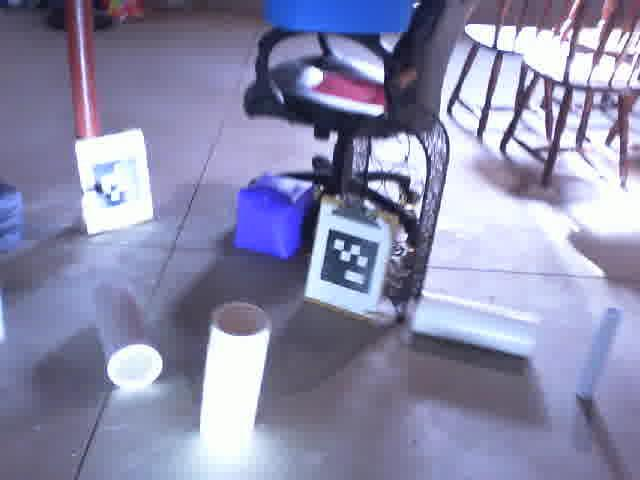coral: (198, 295, 273, 460), (409, 285, 541, 366), (84, 278, 166, 388)
